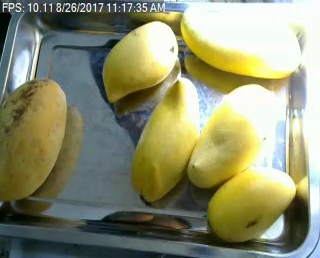Mango: (181, 6, 302, 79), (187, 84, 276, 183), (130, 77, 199, 200), (0, 79, 67, 204), (208, 167, 295, 243), (101, 22, 176, 104)
